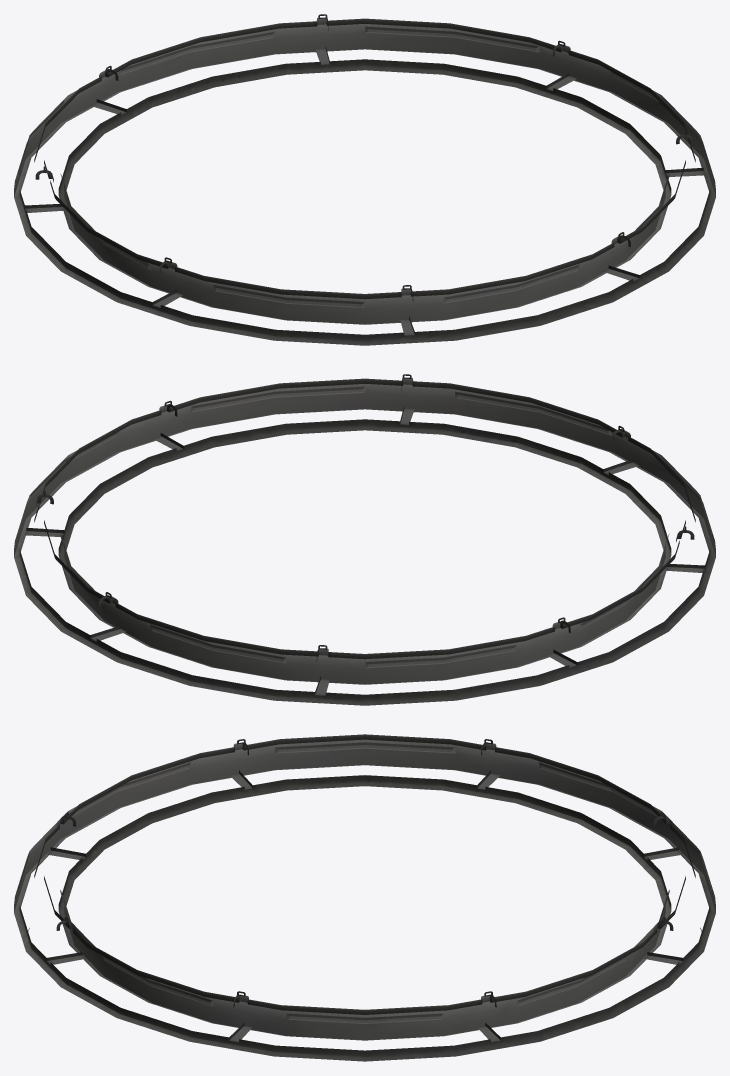
The picture shows the model from 3 angles, top to bottom: view 1: azimuth 30°, elevation 25°; view 2: azimuth 150°, elevation 25°; view 3: azimuth 270°, elevation 25°; orthographic projection.
Parts seen in each view (by area): view 1: body0_model0_lod0_mesh1; view 2: body0_model0_lod0_mesh1; view 3: body0_model0_lod0_mesh1.
Boxes of the visible parts, bbox=[...] form: body0_model0_lod0_mesh1: bbox=[14, 14, 715, 345]; body0_model0_lod0_mesh1: bbox=[14, 374, 715, 705]; body0_model0_lod0_mesh1: bbox=[14, 734, 715, 1061].
Size of the model in its own units: 324 by 24.22 by 324.
Materials: 2 (2 with a texture image).
